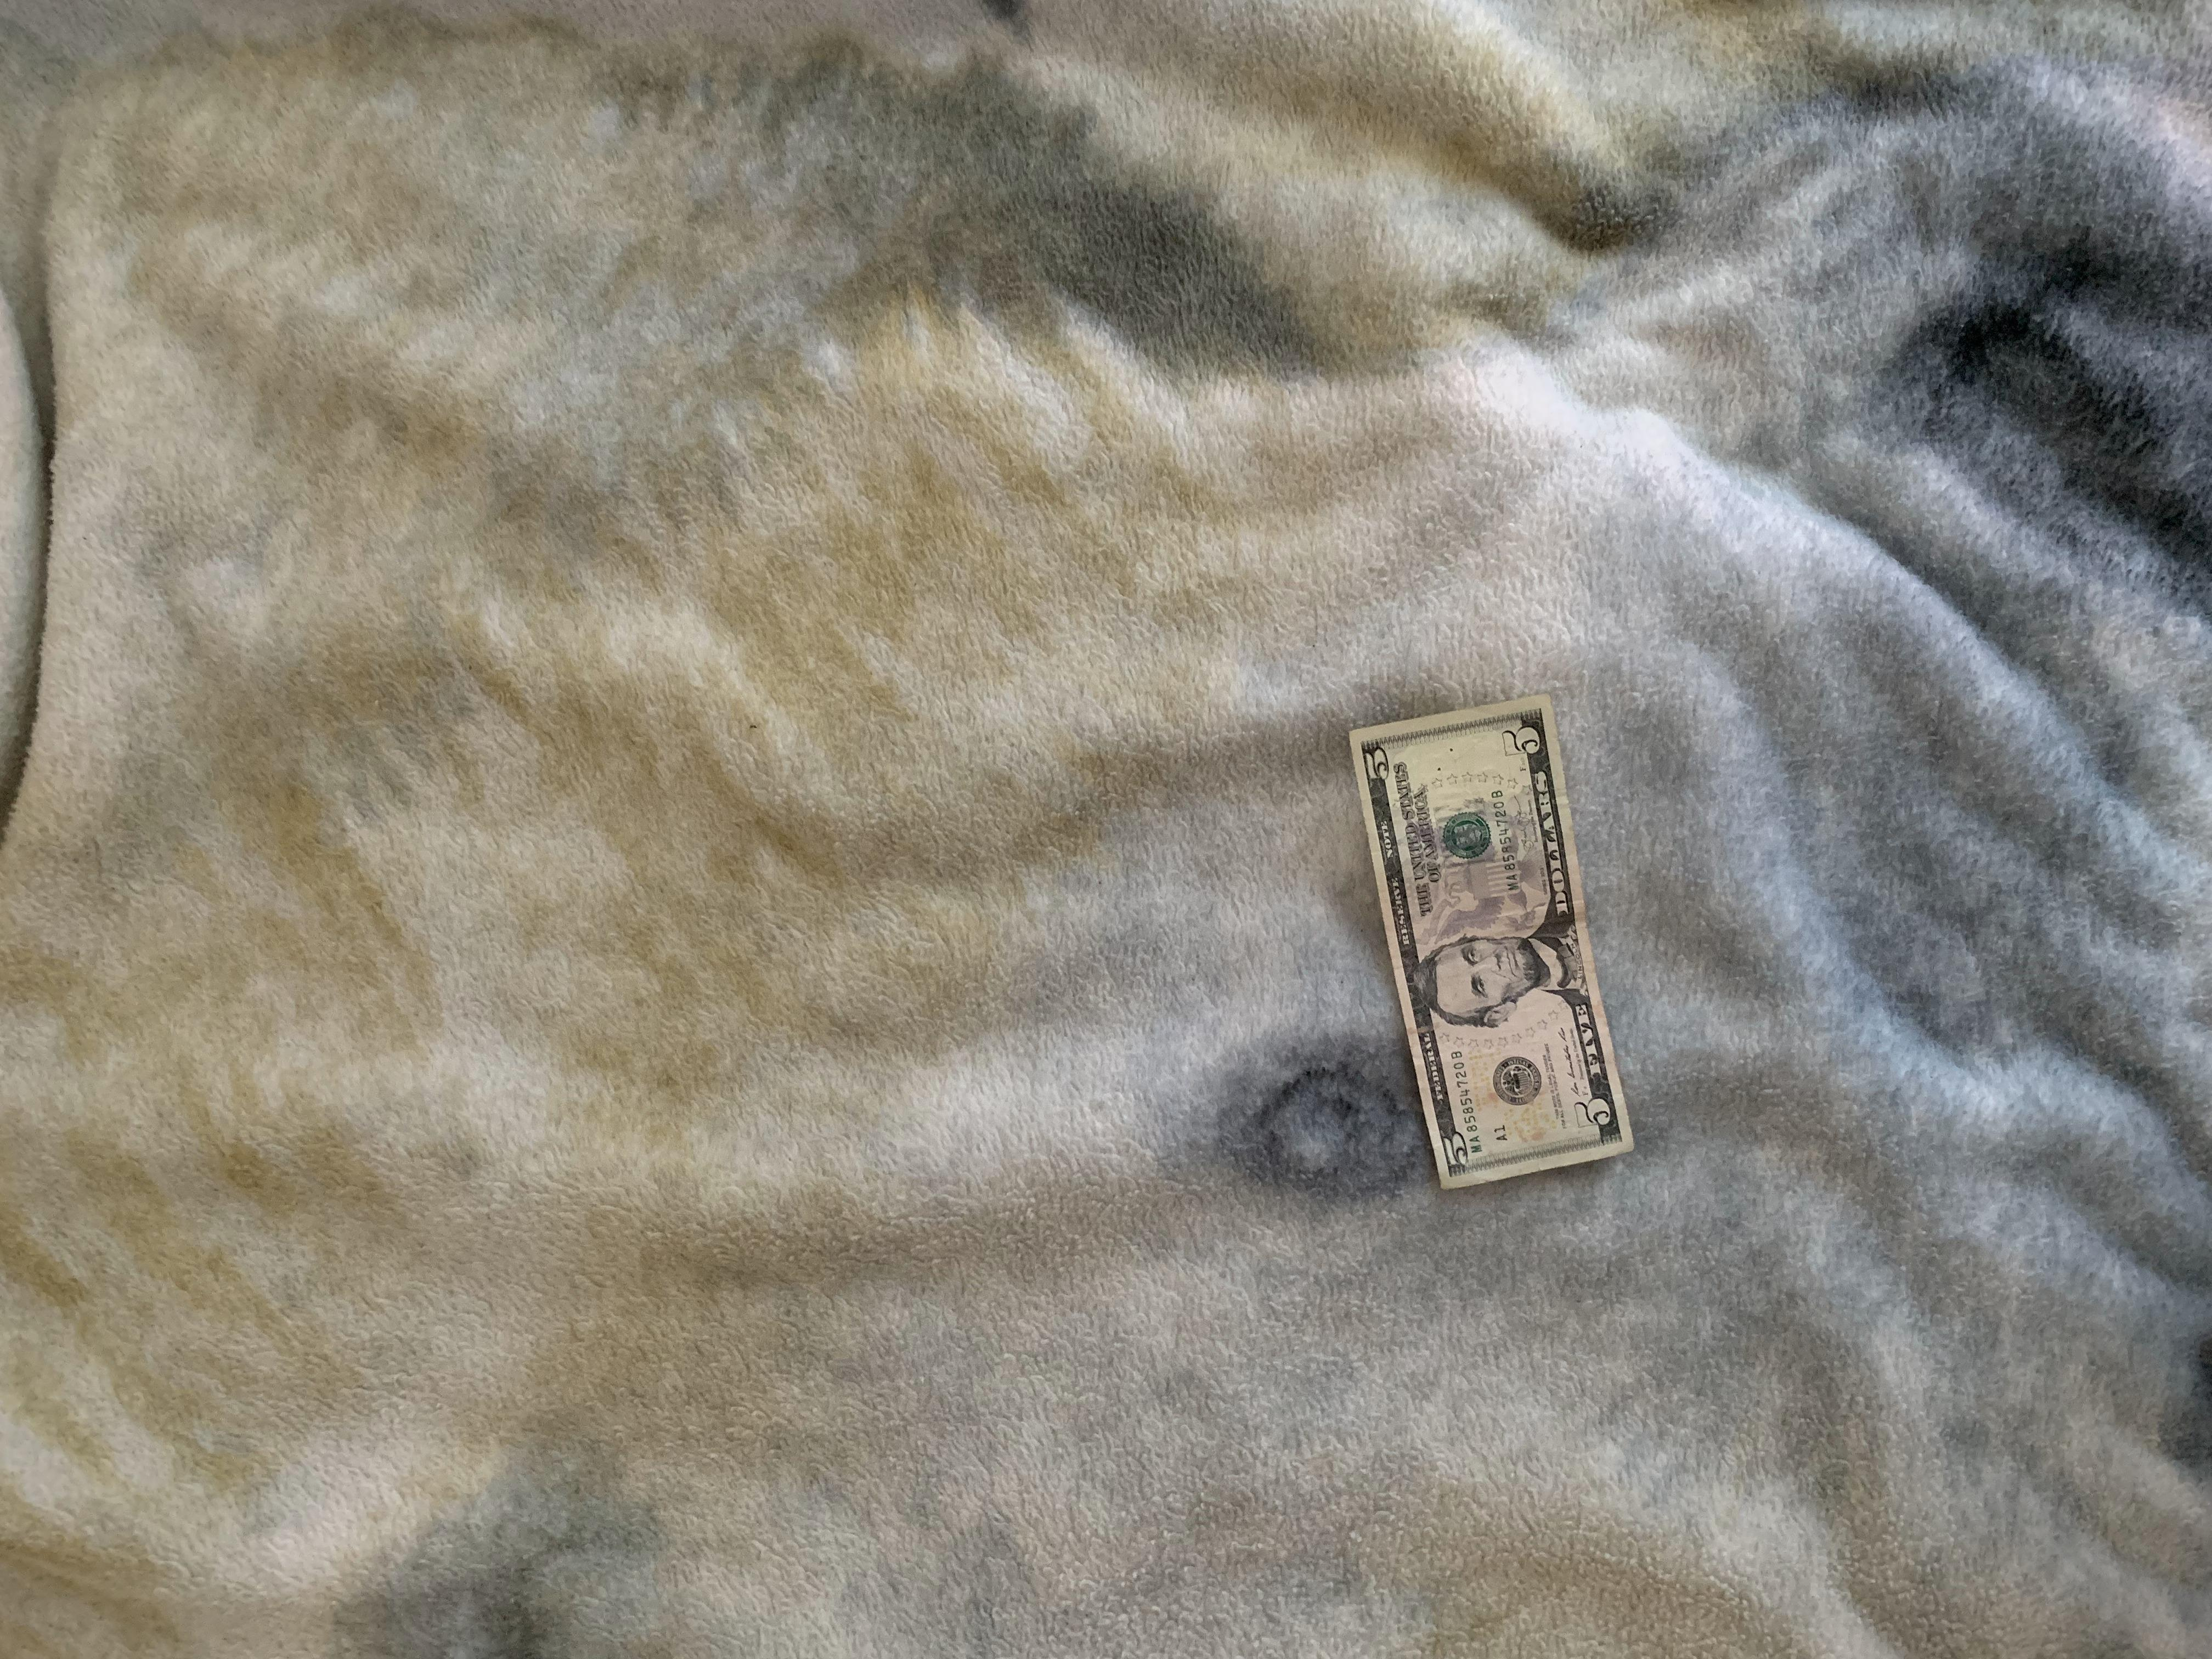FiveBill: (1352, 690, 1632, 1187)
